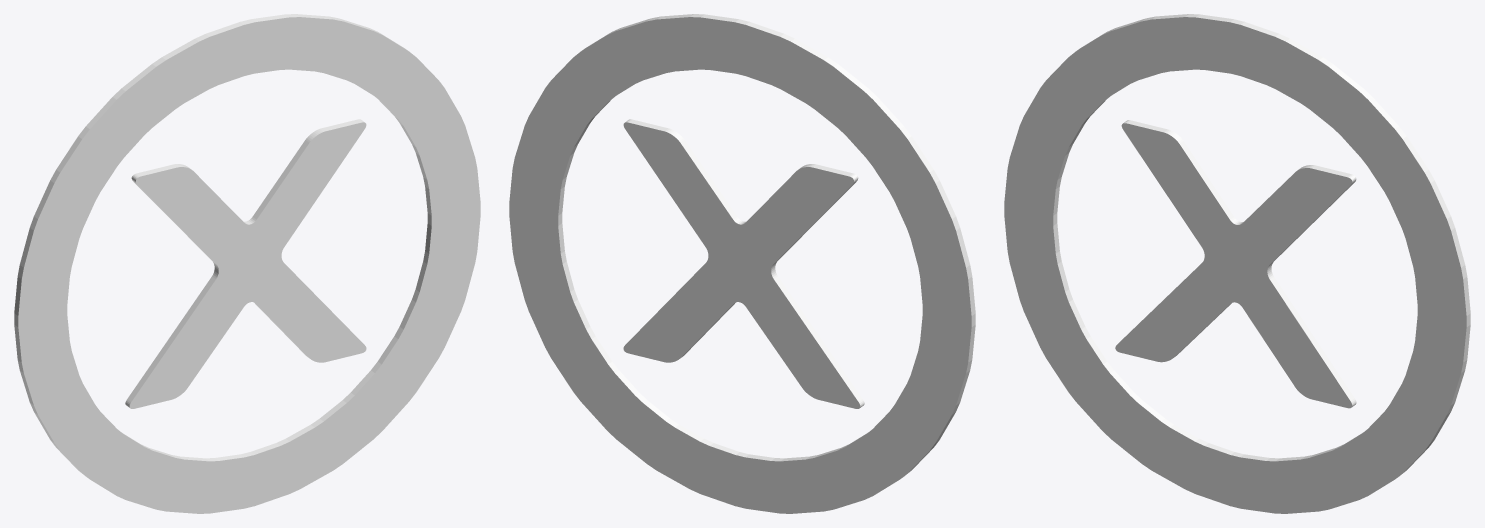
File: Exit_Icon.fbx
3 views of the same model, side by side, from view 1: azimuth 30°, elevation 25°; view 2: azimuth 150°, elevation 25°; view 3: azimuth 330°, elevation 25° (orthographic).
Visible parts, largest first — view 1: Exit_3D_Icon_01; view 2: Exit_3D_Icon_01; view 3: Exit_3D_Icon_01.
Part boxes in pixels (box(x1,y1,x2,y2)): Exit_3D_Icon_01: box(14, 14, 480, 513); Exit_3D_Icon_01: box(509, 14, 975, 513); Exit_3D_Icon_01: box(1004, 14, 1470, 513).
Size of the model in its own units: 122 by 122 by 1.9.
